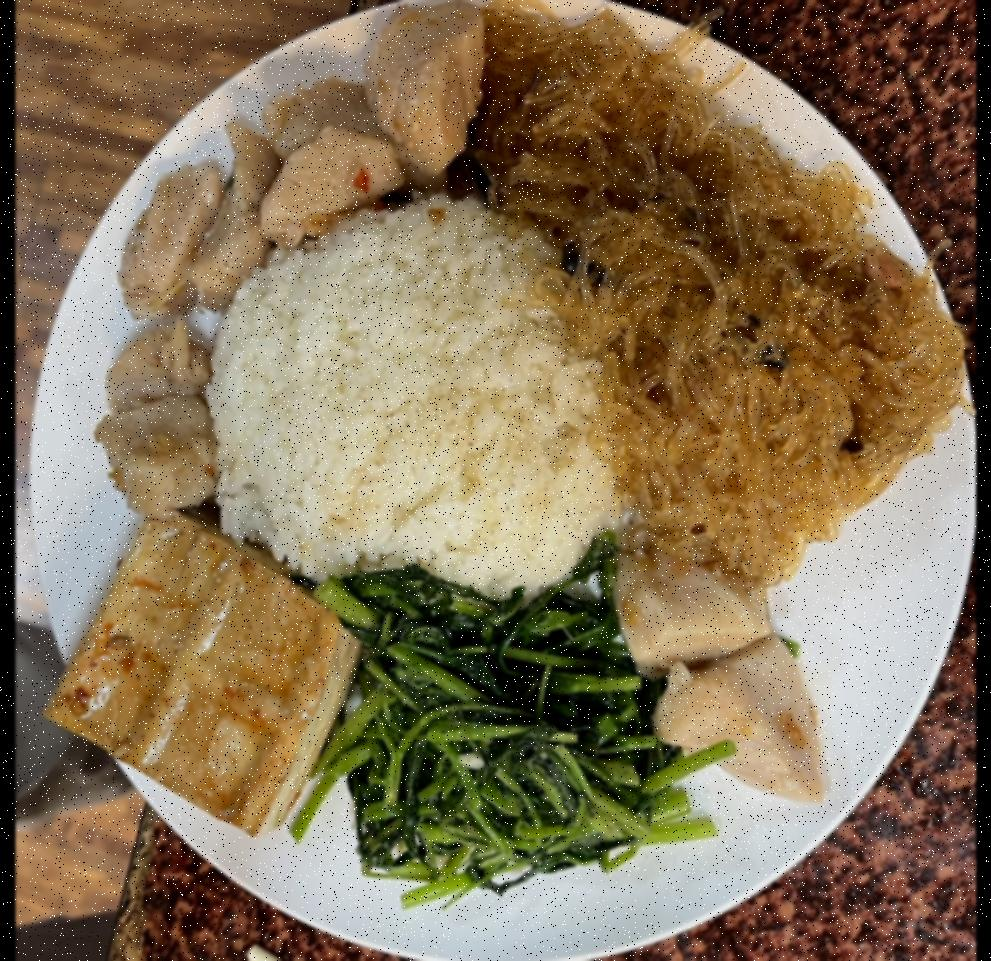plate: (33, 0, 976, 961)
scallion chicken: (95, 10, 491, 519)
side dish: (474, 14, 960, 564), (310, 566, 678, 912), (34, 508, 367, 845)
white rice: (215, 204, 610, 596)
